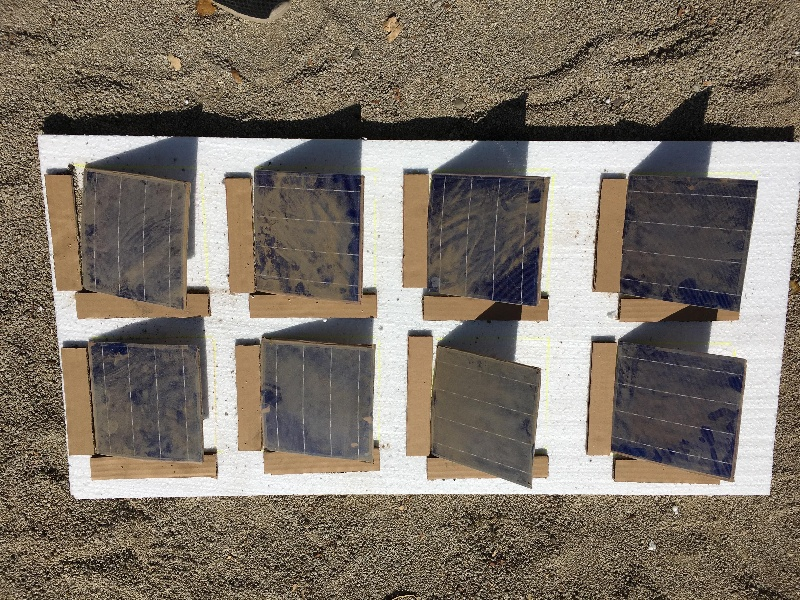dirty: (626, 173, 754, 309), (617, 343, 739, 481), (427, 348, 541, 492), (78, 165, 190, 311), (431, 163, 544, 307), (253, 165, 365, 305), (83, 344, 208, 469), (258, 338, 375, 464)
